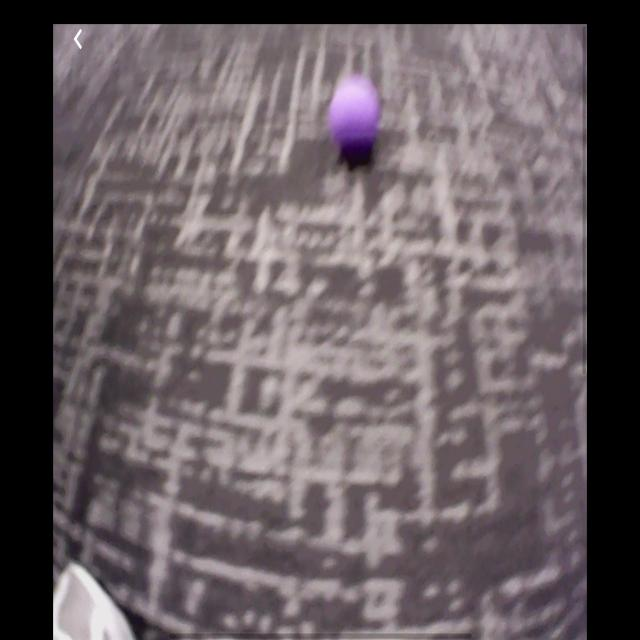ball: (332, 78, 382, 152)
